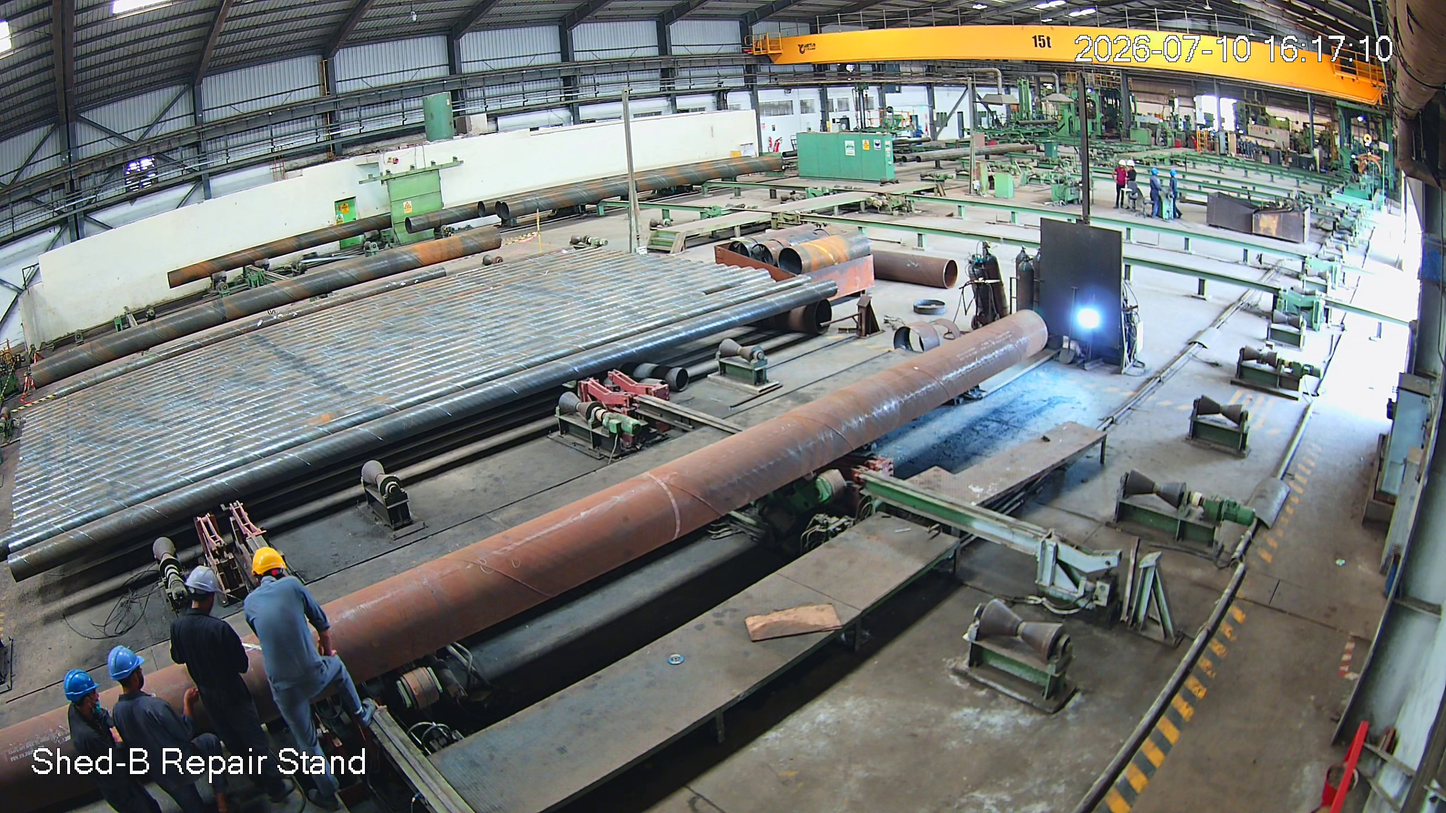Helmet: (99, 648, 168, 704), (175, 566, 229, 631), (244, 543, 301, 603), (57, 664, 101, 722), (1167, 167, 1181, 180), (1117, 159, 1129, 174), (1126, 158, 1138, 172), (1150, 166, 1161, 181)
Person: (251, 550, 363, 786), (169, 568, 279, 781), (105, 646, 217, 809), (58, 671, 143, 813), (1146, 169, 1165, 217), (1167, 170, 1184, 220), (1111, 160, 1127, 203), (1125, 159, 1138, 186)
